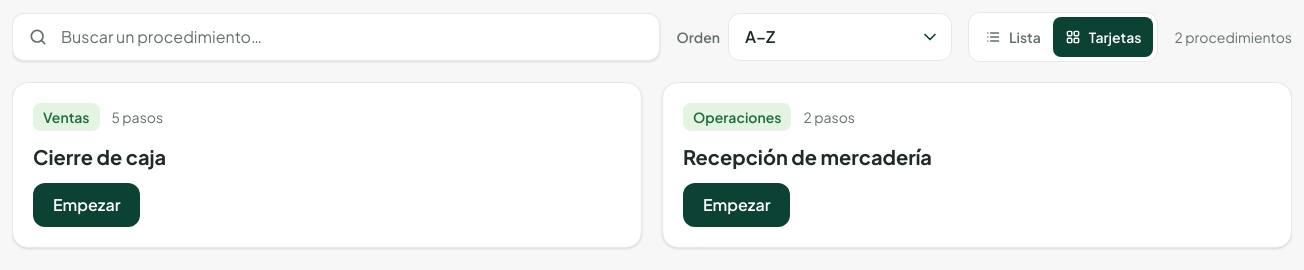
Test case: the two views (?vista=) › the states in tarjetas › no results, and clearing brings them back in the same view
The image size is (1304, 270).
Later steps or results of the test are not shown.
Type "xyz" into the search field labelled "Buscar un procedimiento".
click(336, 37); type("xyz")  # box [12,13,660,61]
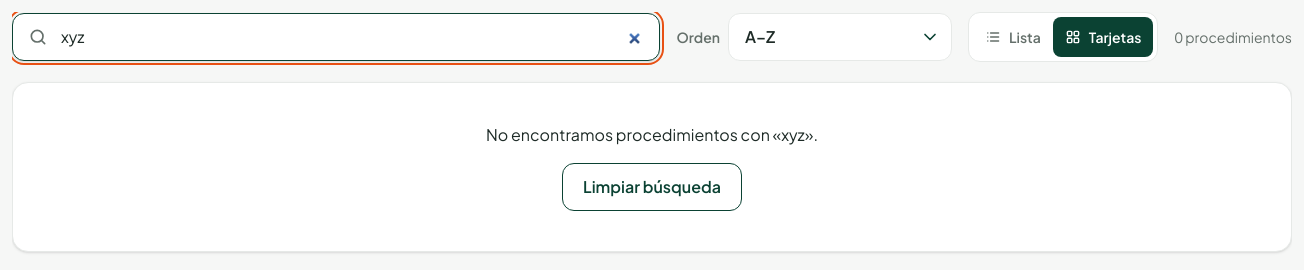
expect the text "No encontramos procedimientos con «xyz»." is shown: met, box [486,123,818,147]
expect the text "0 procedimientos" is shown: met, box [1174,27,1292,47]
